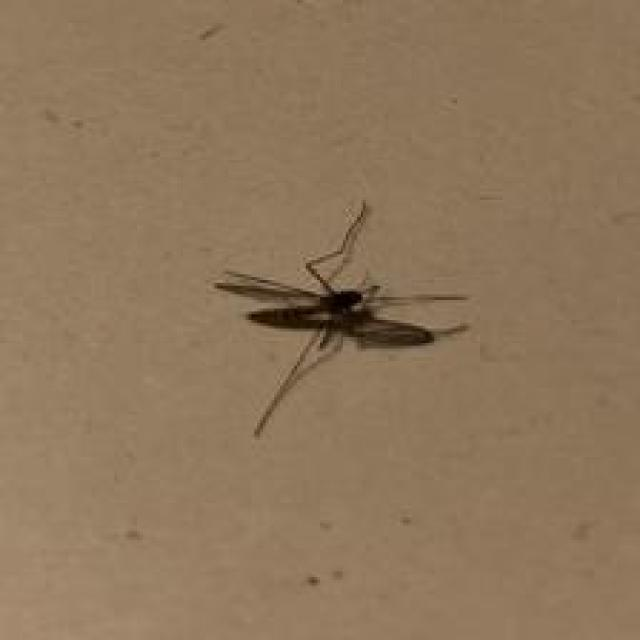Culex: (212, 197, 472, 437)
